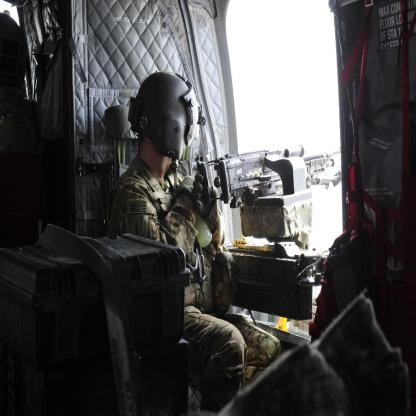Helmet: (124, 70, 193, 172)
